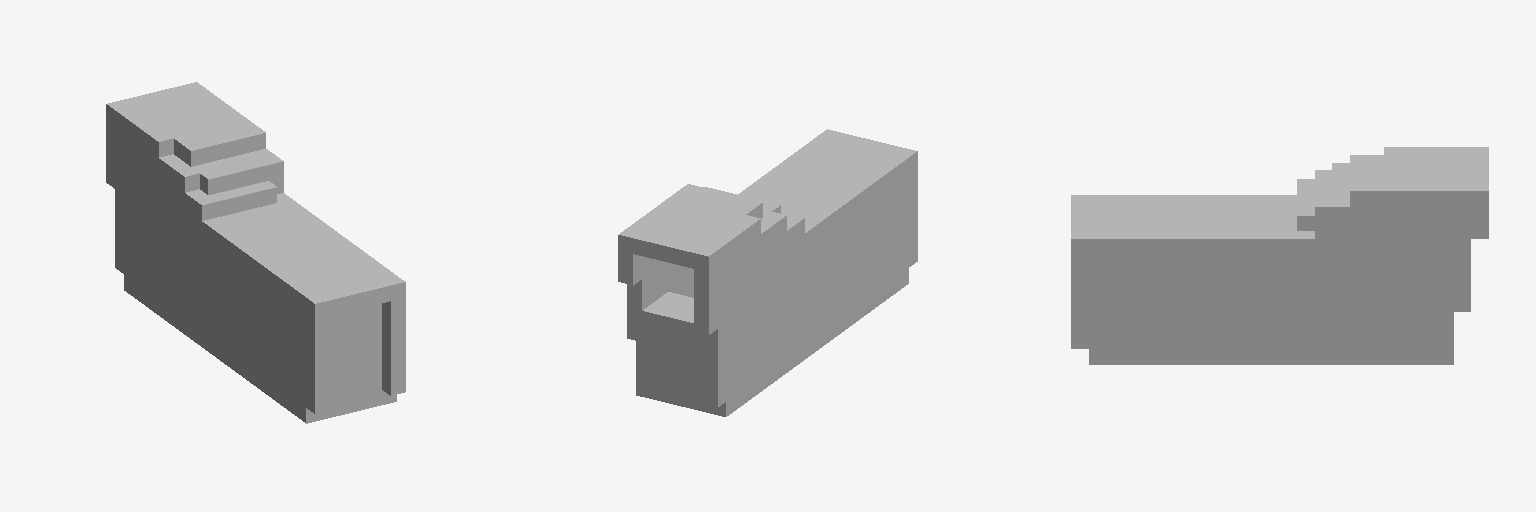
Rendered from Room.obj.
3 renders of one model, left to right at view 1: azimuth 30°, elevation 25°; view 2: azimuth 150°, elevation 25°; view 3: azimuth 270°, elevation 25°, orthographic.
Parts seen in each view (by area): view 1: object 1; view 2: object 1; view 3: object 1.
Boxes of the visible parts, box(x1,y1,x2,y2) form: object 1: box(106, 82, 405, 423); object 1: box(618, 129, 917, 416); object 1: box(1071, 147, 1488, 364).
Size of the model in its own units: 0.6 by 1.1 by 2.4.